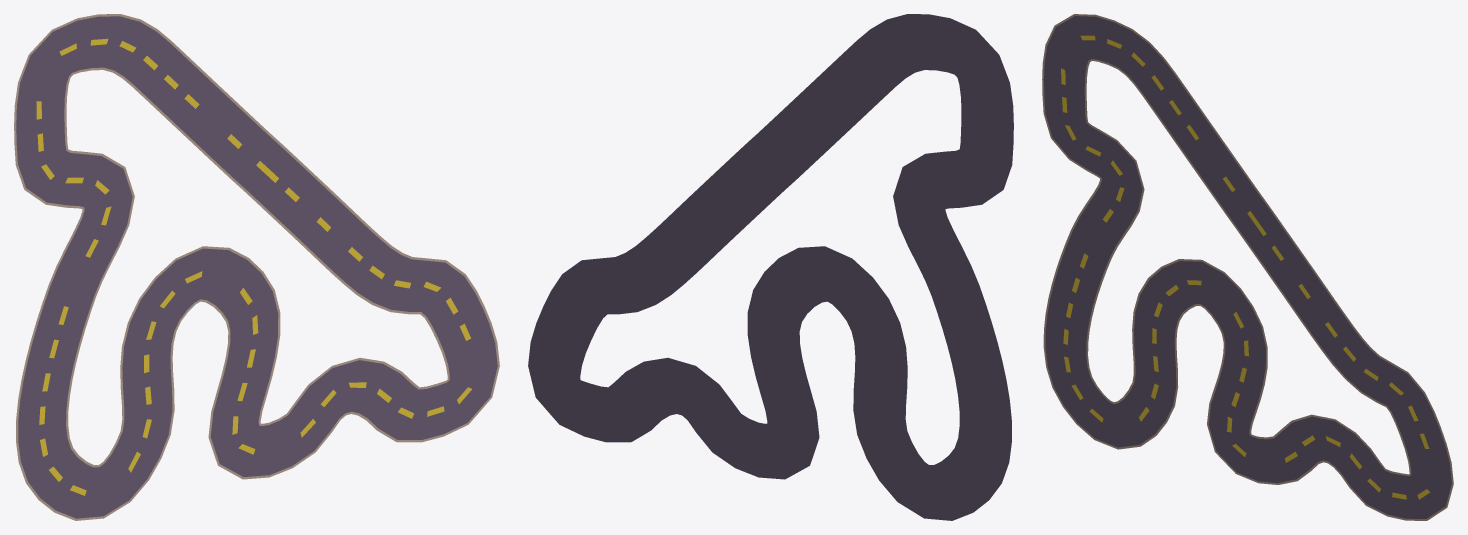
Rendered from track.obj.
The picture shows the model from 3 angles, left to right: view 1: azimuth 30°, elevation 25°; view 2: azimuth 150°, elevation 25°; view 3: azimuth 330°, elevation 25°; orthographic projection. The views are drawn at different scales.
Bounding box in the file's own units: 8.8 × 8.8 × 0.002.
